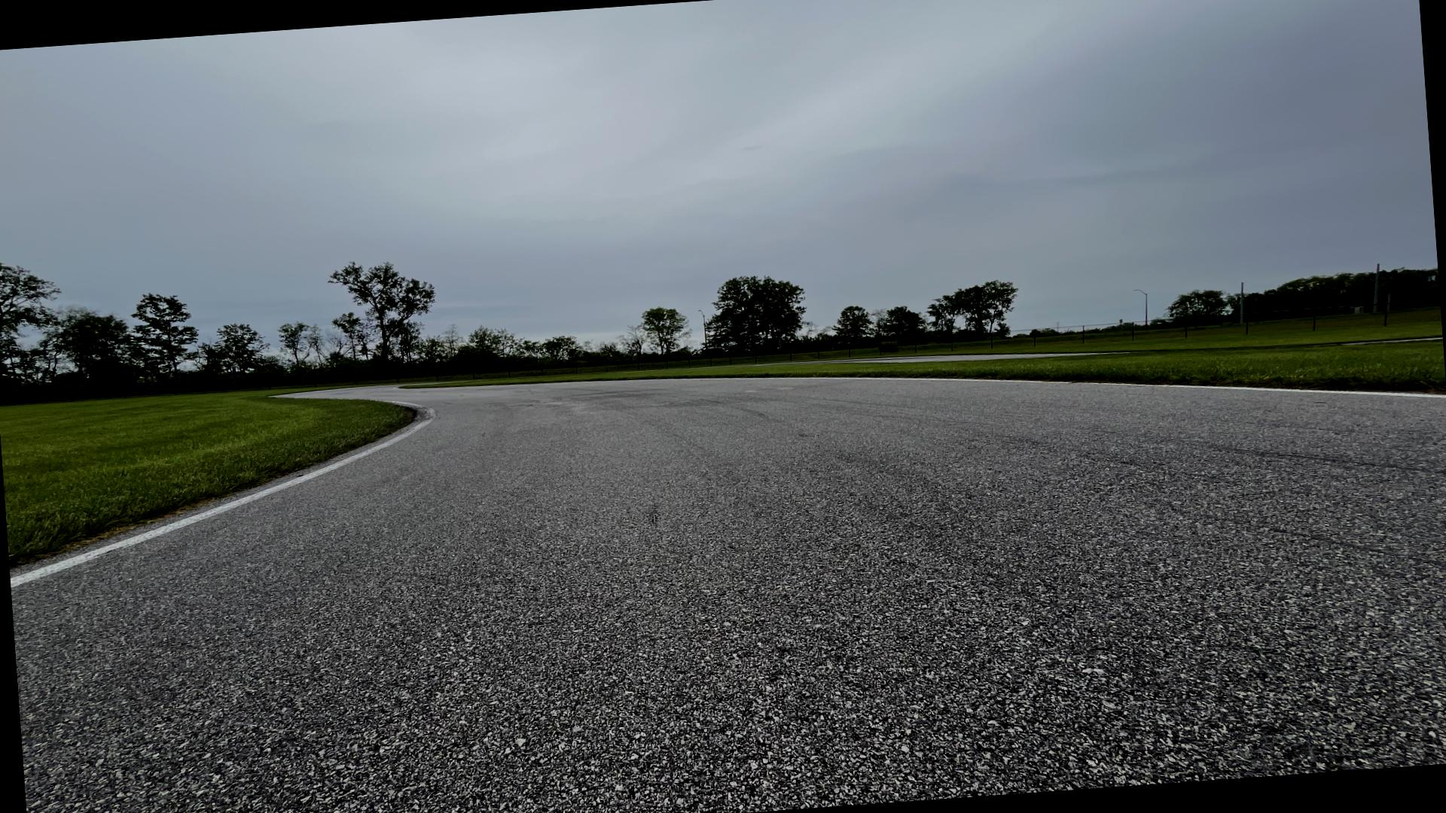white-line: (10, 400, 436, 590), (575, 377, 1445, 398)
